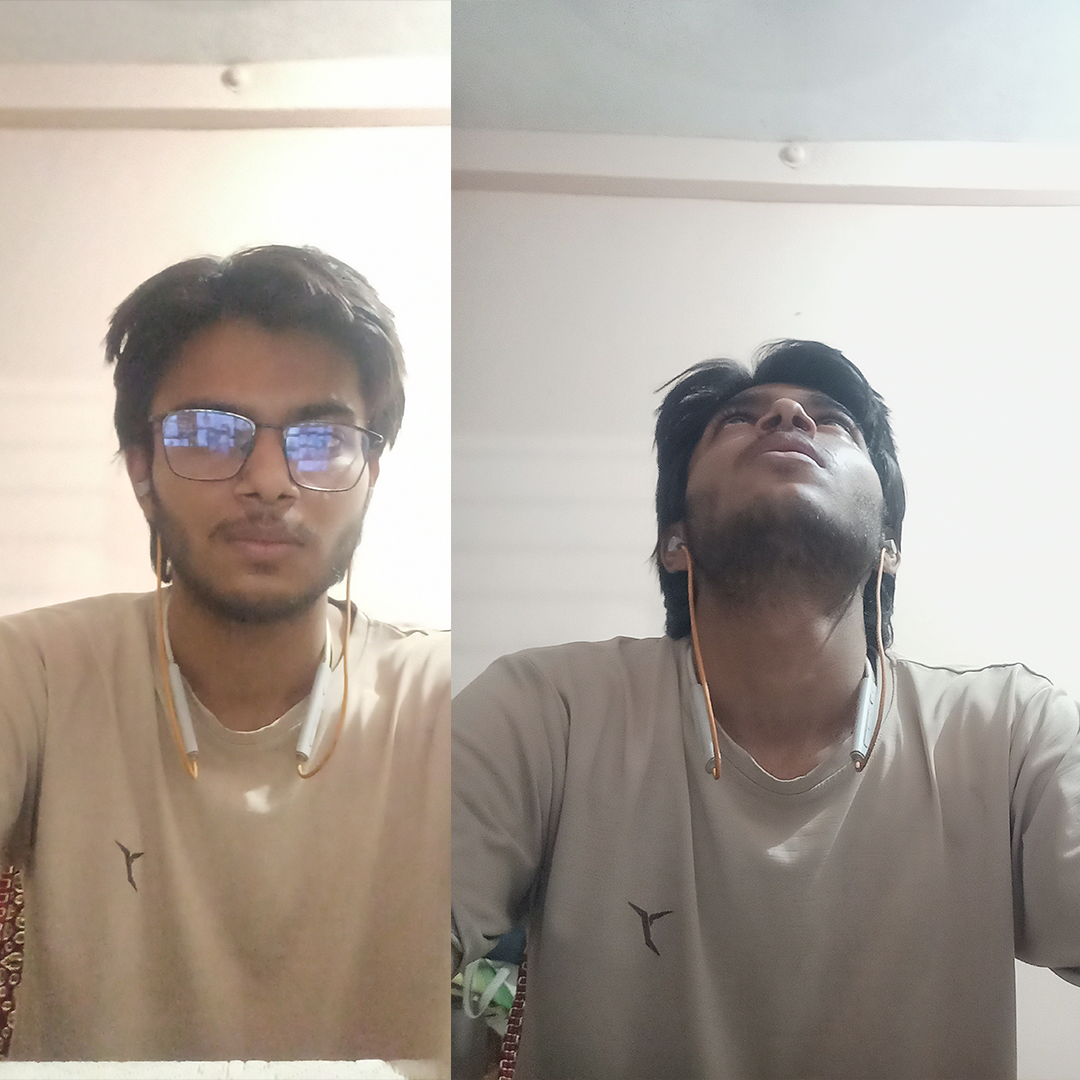Focused: (104, 250, 425, 650)
distracted: (621, 326, 931, 673)
